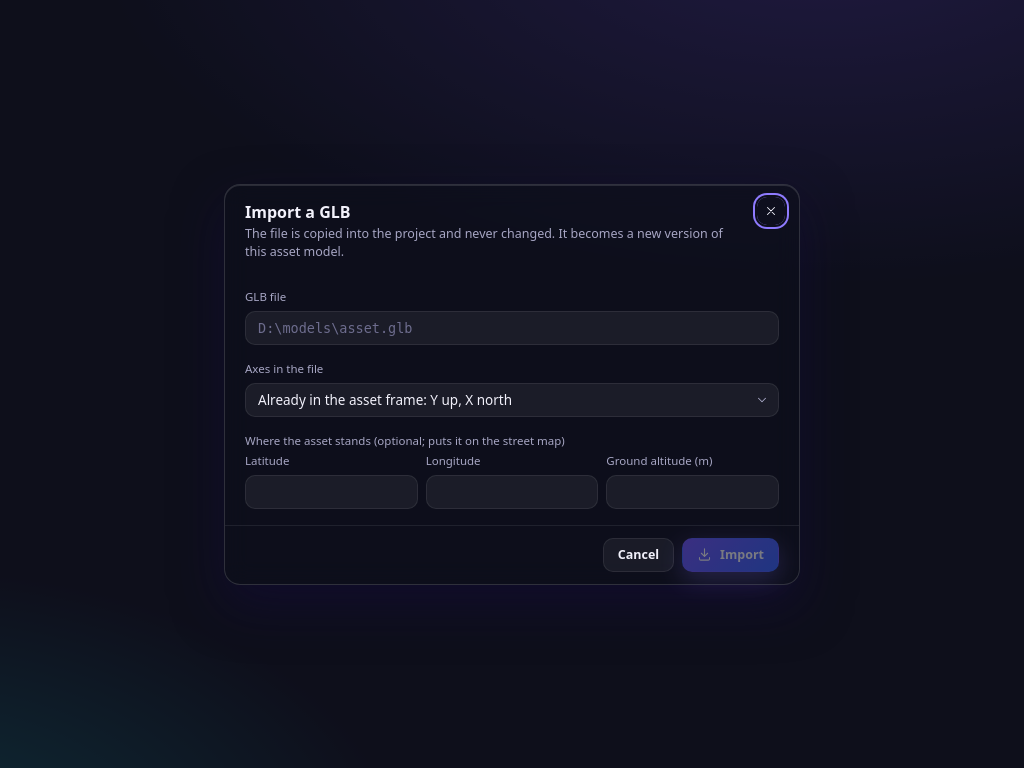
Test case: ImportGlbDialog › needs all three origin fields or none
Type "D:\\a.glb" into the field labelled "GLB file" at (512, 328), box [245, 310, 779, 344]
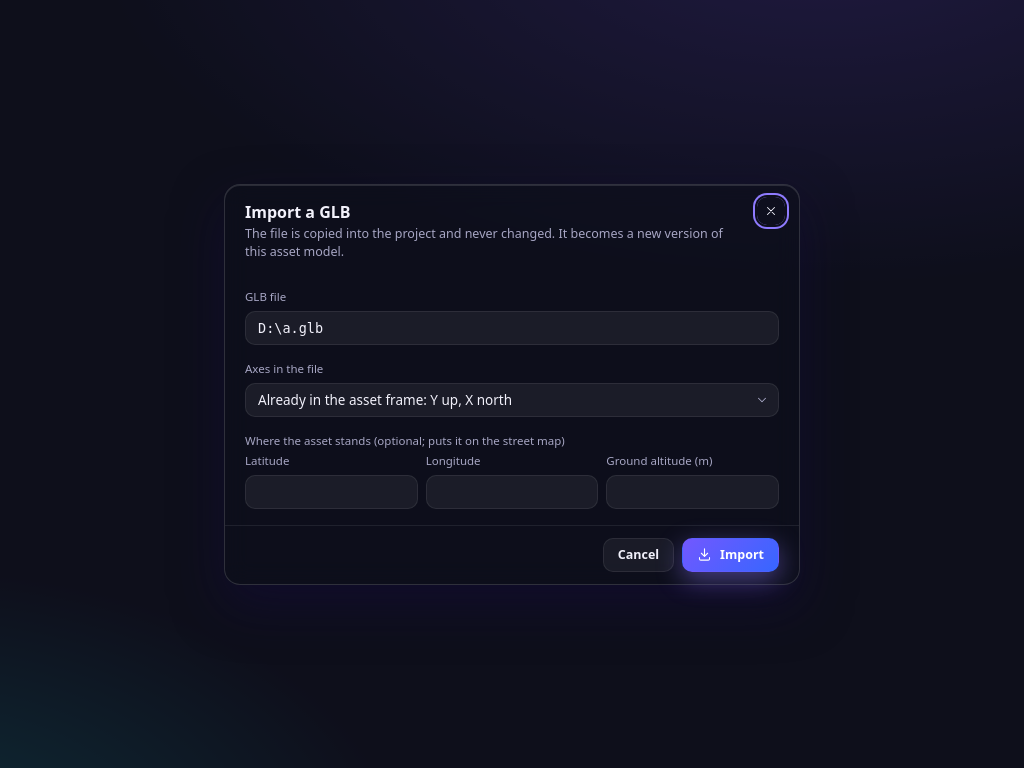
Type "25.2" into the field labelled "Latitude" at (331, 492), box [245, 474, 418, 508]
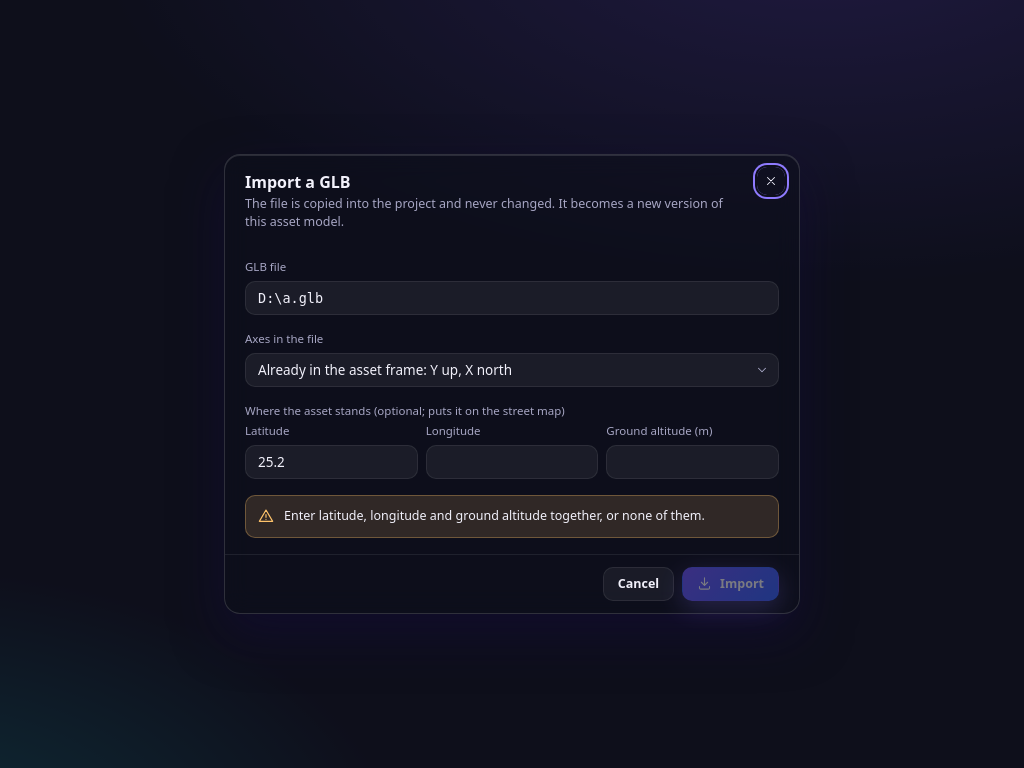
Now the button "Import" is disabled, box [682, 567, 779, 601]
Now the text "latitude, longitude and ground altitude together" is shown, box [284, 507, 705, 524]
